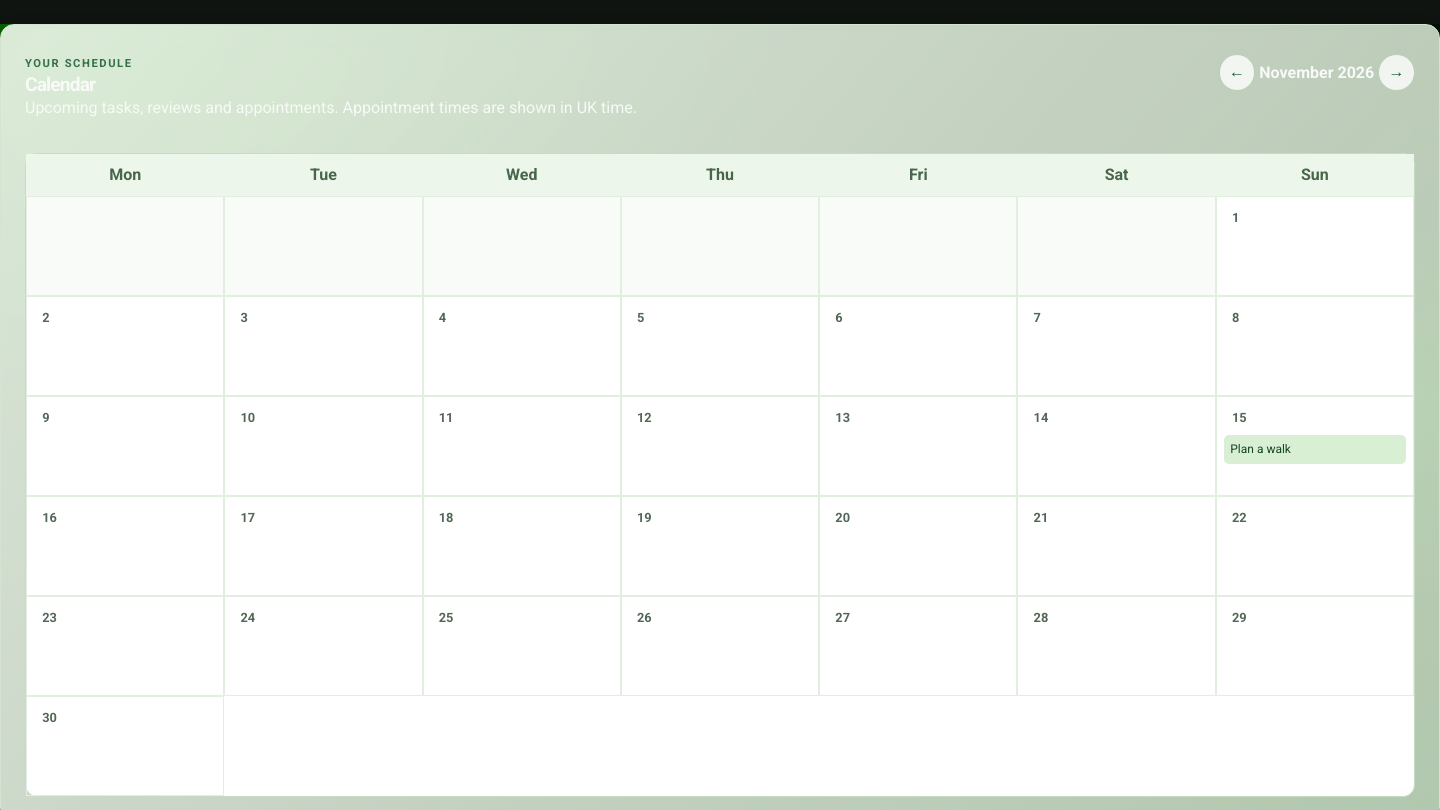
it: shows a task on its day and opens and closes its details
Later steps or results of the test are not shown.
Click the button "Plan a walk" at (1315, 450), box [1224,435,1406,464]
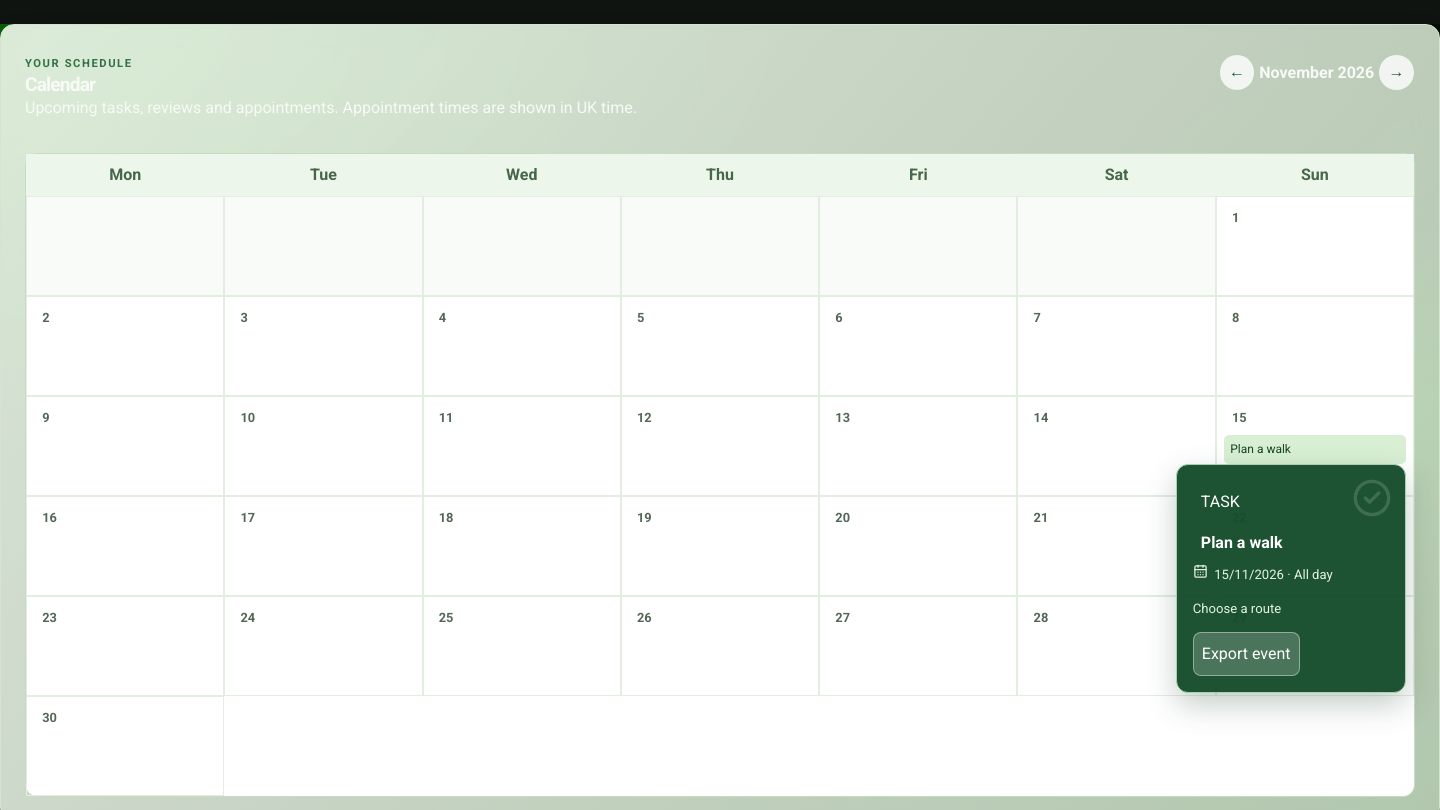
Expected: the element named "Plan a walk details" shows "Choose a route", [1193,601,1281,616]
Expected: the button "Export event" is disabled, [1193,632,1300,676]
